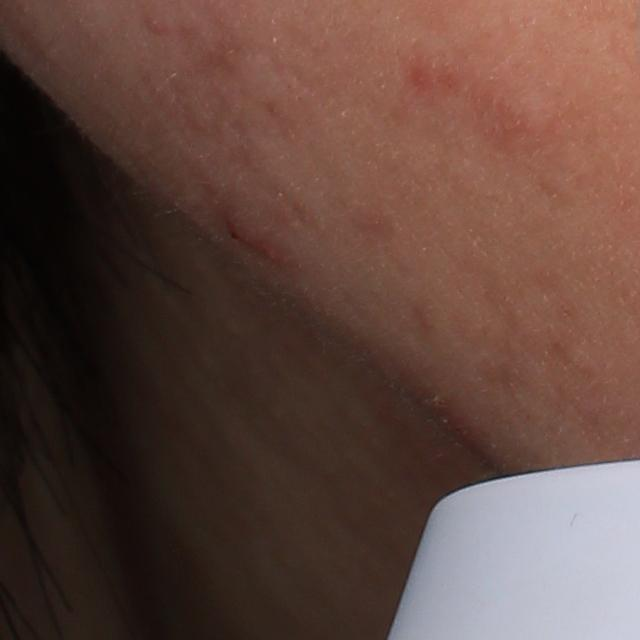papule: (220, 205, 282, 260)
